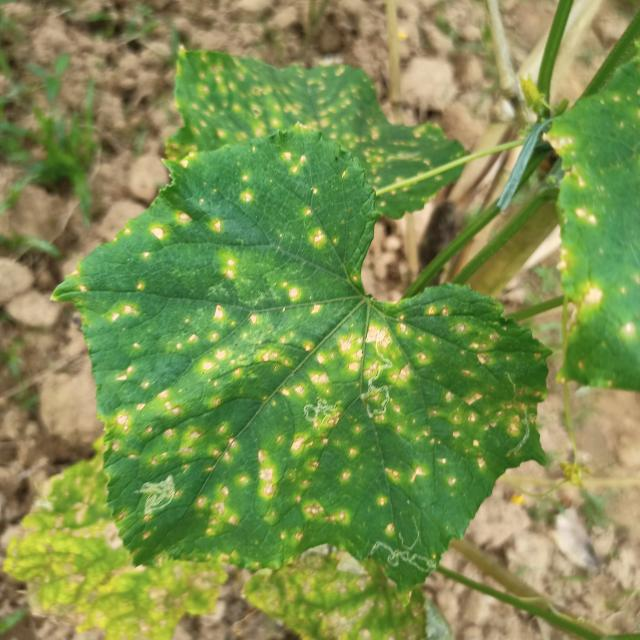disease_cucumber: (75, 298, 549, 569), (135, 224, 165, 292), (303, 206, 338, 250), (281, 279, 323, 315), (175, 209, 226, 237), (282, 150, 309, 177), (236, 171, 254, 208), (220, 254, 241, 283)
